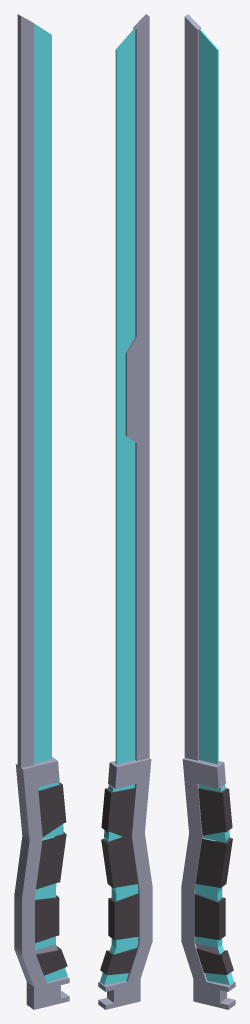
The model's file is weaphone.FBX.
3 views of the same model, side by side, from view 1: azimuth 30°, elevation 25°; view 2: azimuth 210°, elevation 25°; view 3: azimuth 330°, elevation 25° (orthographic).
Parts seen in each view (by area): view 1: Box001; view 2: Box001; view 3: Box001.
Boxes of the visible parts, <box> form: Box001: <box>14,14,69,1009</box>; Box001: <box>98,14,152,1009</box>; Box001: <box>181,14,235,1009</box>.
Bounding box in the file's own units: 4.14 × 1.11 × 82.55.
1 material, 1 textured.
